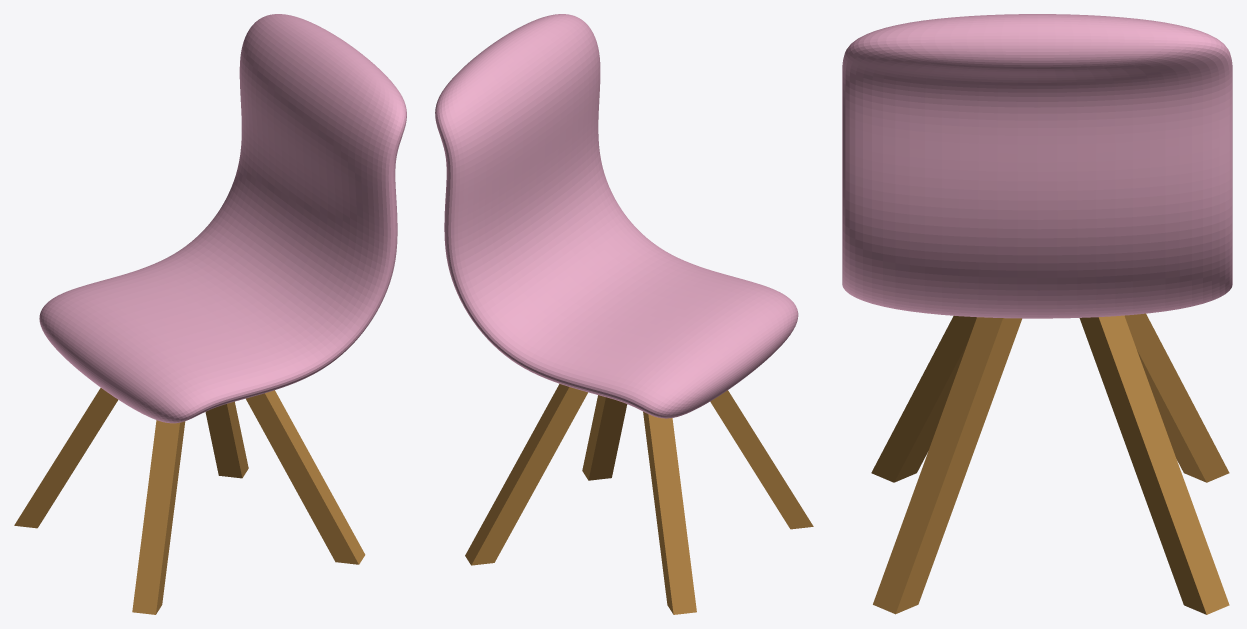
File: Chair.fbx
3 views of the same model, side by side, from view 1: azimuth 30°, elevation 25°; view 2: azimuth 150°, elevation 25°; view 3: azimuth 270°, elevation 25° (orthographic). The views are drawn at different scales.
Parts seen in each view (by area): view 1: Plane.003, Cube.019; view 2: Plane.003, Cube.019; view 3: Plane.003, Cube.019.
Boxes of the visible parts, x1,y1,x2,y2 form: Plane.003: (39,14,406,423); Cube.019: (14,388,365,614); Plane.003: (435,14,798,418); Cube.019: (465,384,813,614); Plane.003: (842,14,1232,318); Cube.019: (871,313,1229,614).
Bounding box in the file's own units: 50.48 × 79.3 × 45.77.
